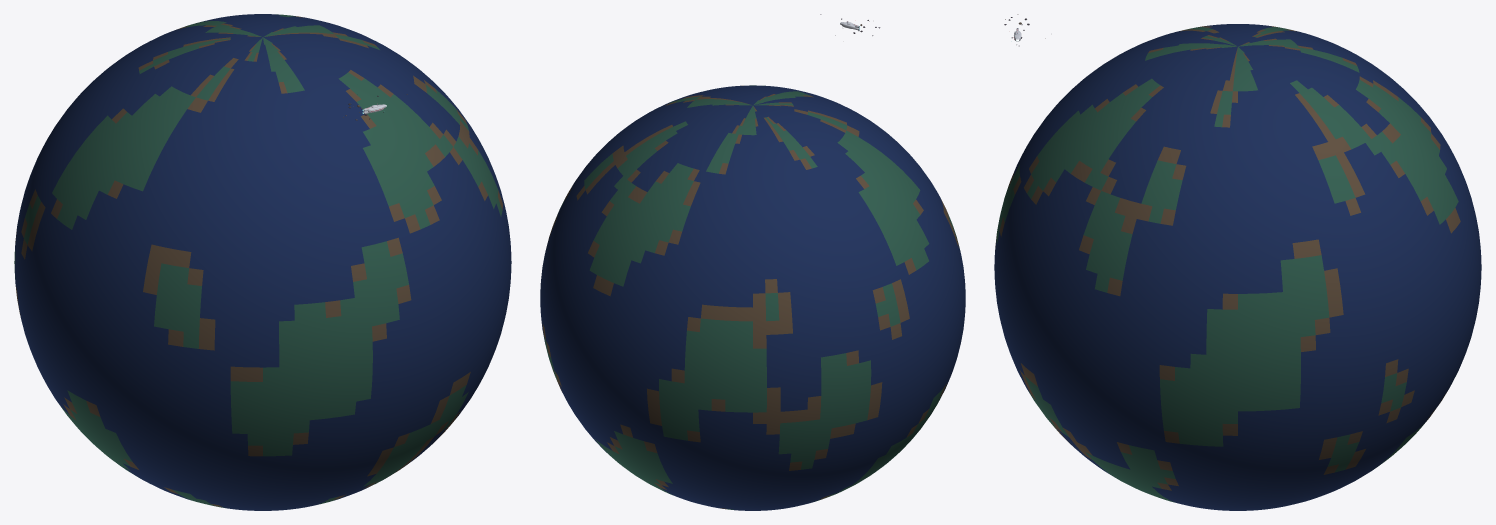
File: home.glb
3 views of the same model, side by side, from view 1: azimuth 30°, elevation 25°; view 2: azimuth 150°, elevation 25°; view 3: azimuth 270°, elevation 25° (orthographic). The views are drawn at different scales.
Parts seen in each view (by area): view 1: spin_z_0.15_planet; view 2: spin_z_0.15_planet; view 3: spin_z_0.15_planet.
Part boxes in pixels (x1,y1,x2,y2): spin_z_0.15_planet: [14, 14, 511, 510]; spin_z_0.15_planet: [540, 85, 965, 510]; spin_z_0.15_planet: [994, 24, 1481, 510].
Size of the model in its own units: 840 by 880 by 840.
